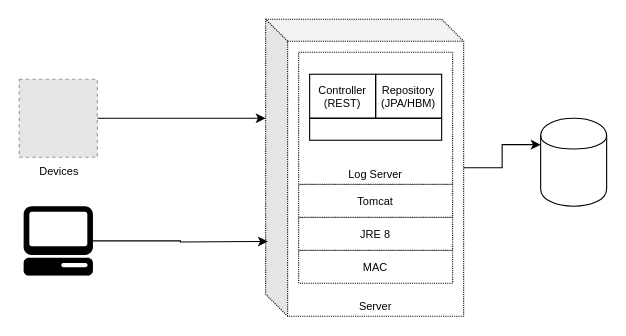
The diagram is 626 pixels wide and 336 high, and some of its shapes have lost their labels. Grey dashed boxes stand in for pictures. The shapes that lost their labels are listed below. From the top down, each one's box as (x1, y1, x2, y2) in pixels, then its label:
(309, 117, 442, 140): Spring Context
(540, 117, 607, 206): MySQL
(23, 205, 93, 276): Admin Browser
